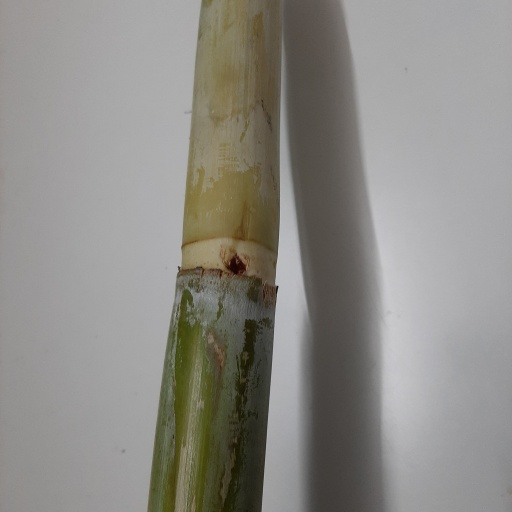Damage_Bud: (227, 251, 247, 276)
